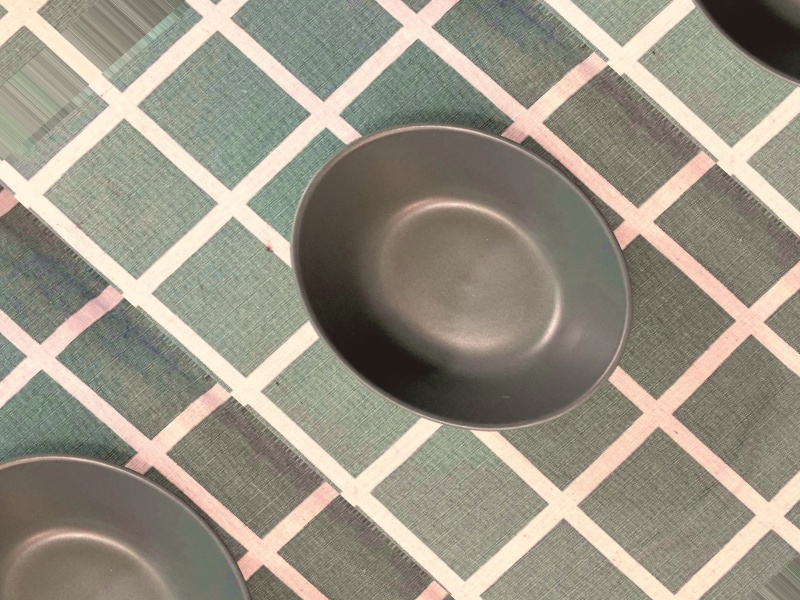bowl_big: (199, 37, 717, 502)
